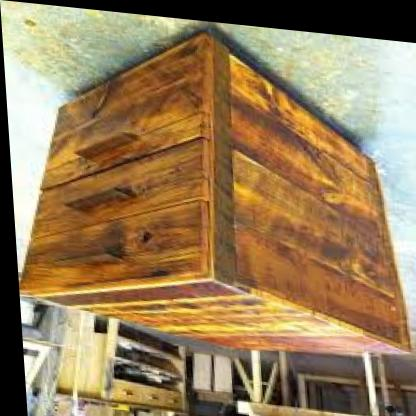Miscellaneous: (5, 16, 404, 376)
